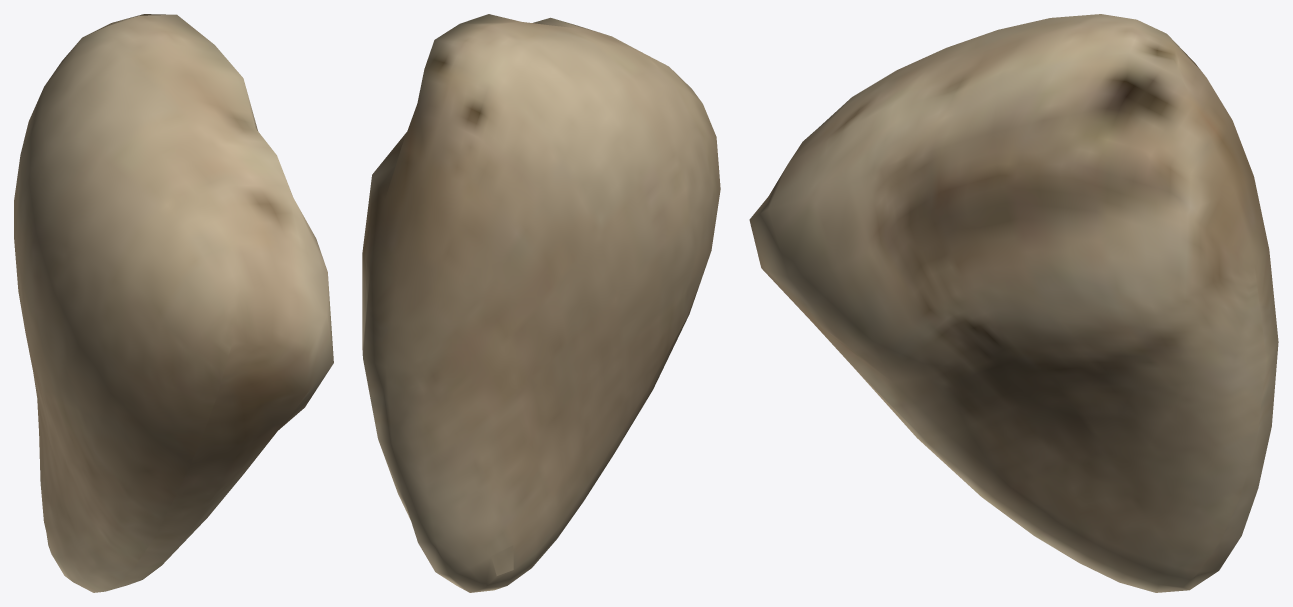
Rendered from Mandibular_Molar2.glb.
The picture shows the model from 3 angles, left to right: view 1: azimuth 30°, elevation 25°; view 2: azimuth 150°, elevation 25°; view 3: azimuth 270°, elevation 25°; orthographic projection. The views are drawn at different scales.
Visible parts, largest first — view 1: Molar2; view 2: Molar2; view 3: Molar2.
Part boxes in pixels (bbox=[...]): Molar2: bbox=[14, 14, 333, 592]; Molar2: bbox=[362, 14, 720, 592]; Molar2: bbox=[749, 14, 1278, 592].
Bounding box in the file's own units: 0.0155 × 0.0332 × 0.0275.
1 material, 1 textured.
